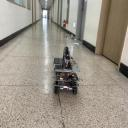cart: (54, 62, 80, 96)
